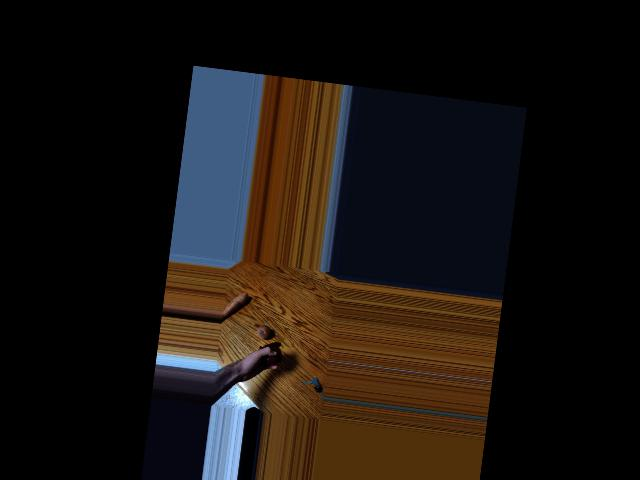onion: (251, 324, 271, 345)
